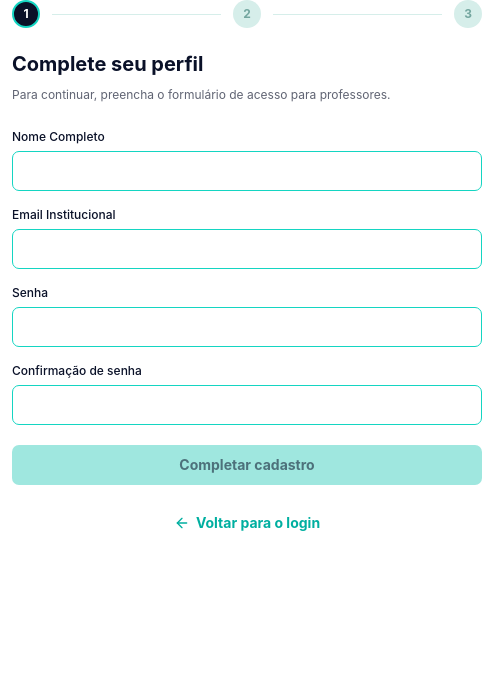
Test: RegisterProfessorForm › exibe validacoes obrigatorias quando o formulario da segunda etapa e enviado vazio
The width and height of the screenshot is (499, 675).
Type "Hilmer Rodrigues Neri" into the field labelled "Nome Completo".
click(247, 171); type("Hilmer Rodrigues Neri")  # box [12,151,482,191]
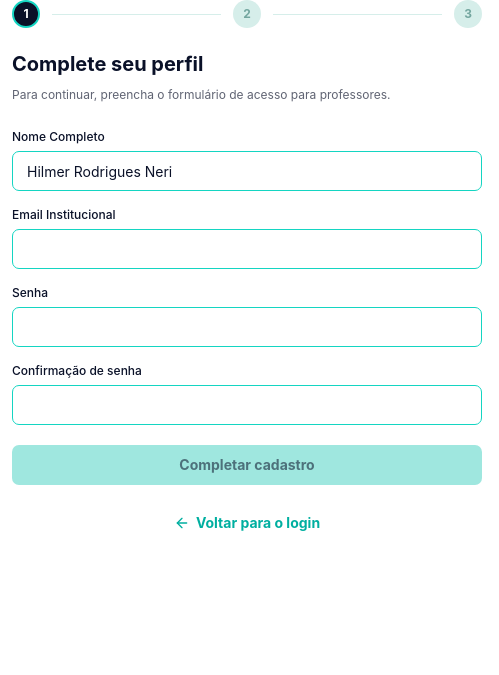
Type "hilmer@unb.br" into the field labelled "Email Institucional".
click(247, 249); type("hilmer@unb.br")  # box [12,229,482,269]
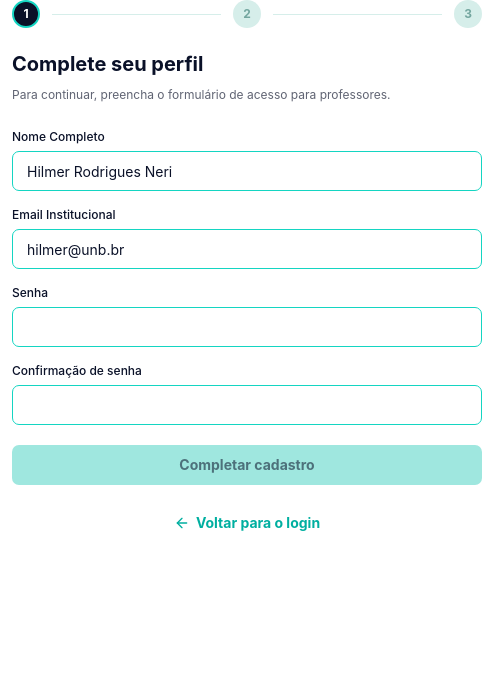
Type "senhaValida123" into the password field labelled "Senha".
click(247, 327); type("senhaValida123")  # box [12,307,482,347]
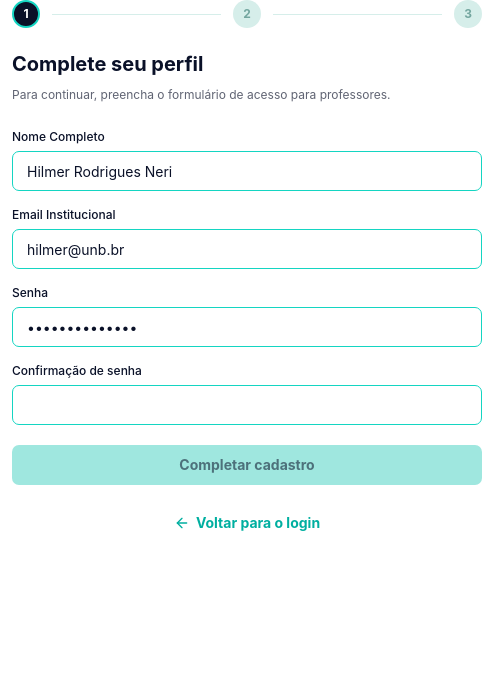
Type "senhaValida123" into the password field labelled "Confirmação de senha".
click(247, 405); type("senhaValida123")  # box [12,385,482,425]
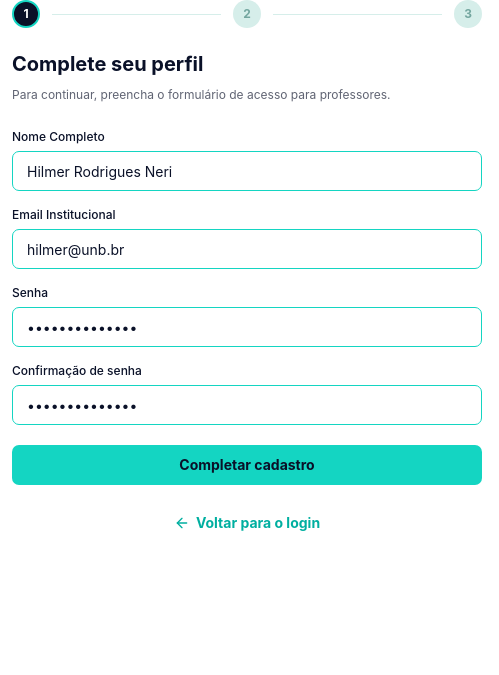
Click the button "Completar cadastro".
click(247, 465)  # box [12,445,482,485]
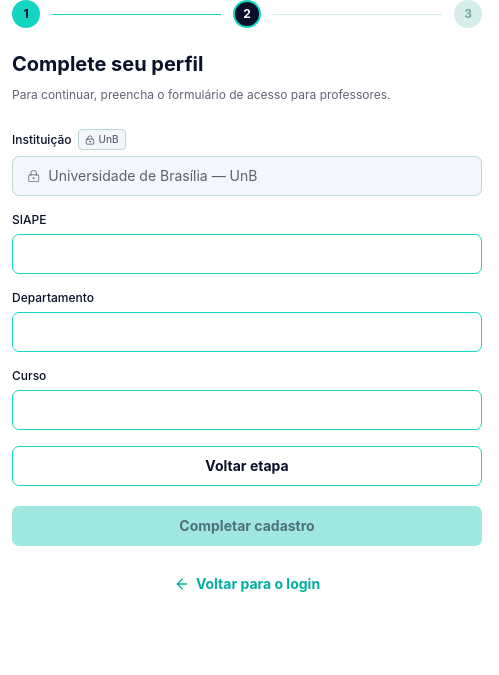
Now the field labelled "Instituição" is shown, box [48,166,467,186]
Submit the form named "register professor form"
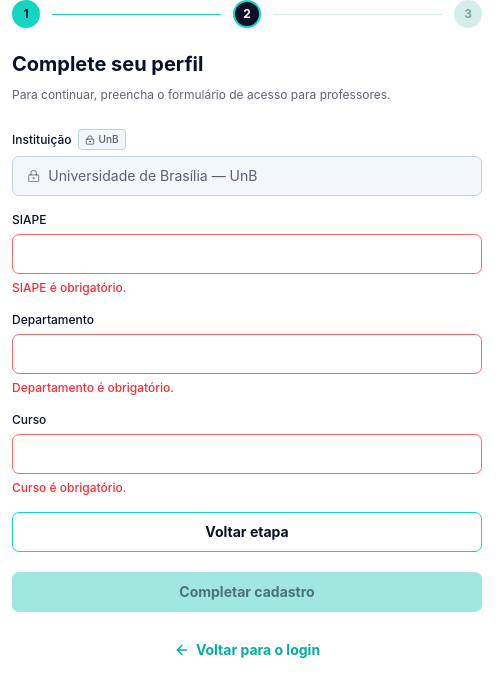
Now the text "SIAPE é obrigatório." is shown, box [12,280,126,295]
Now the text "Departamento é obrigatório." is shown, box [12,380,174,395]
Now the text "Curso é obrigatório." is shown, box [12,480,126,495]
